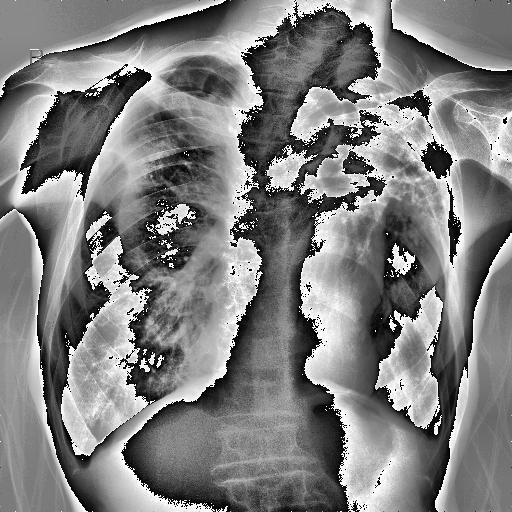1- Atelectasis: (356, 81, 446, 215), (346, 86, 463, 180), (365, 72, 450, 162)
10- Pleural effusion: (60, 442, 104, 482), (418, 424, 448, 450)
11- Pleural thickening: (135, 54, 186, 91), (60, 442, 104, 482), (418, 424, 448, 450), (419, 432, 444, 461), (64, 450, 90, 476), (422, 430, 444, 458), (74, 457, 94, 478)
13- Pulmonary fibrosis: (356, 81, 446, 215), (346, 86, 463, 180)
6- Infiltration: (392, 170, 456, 242)
